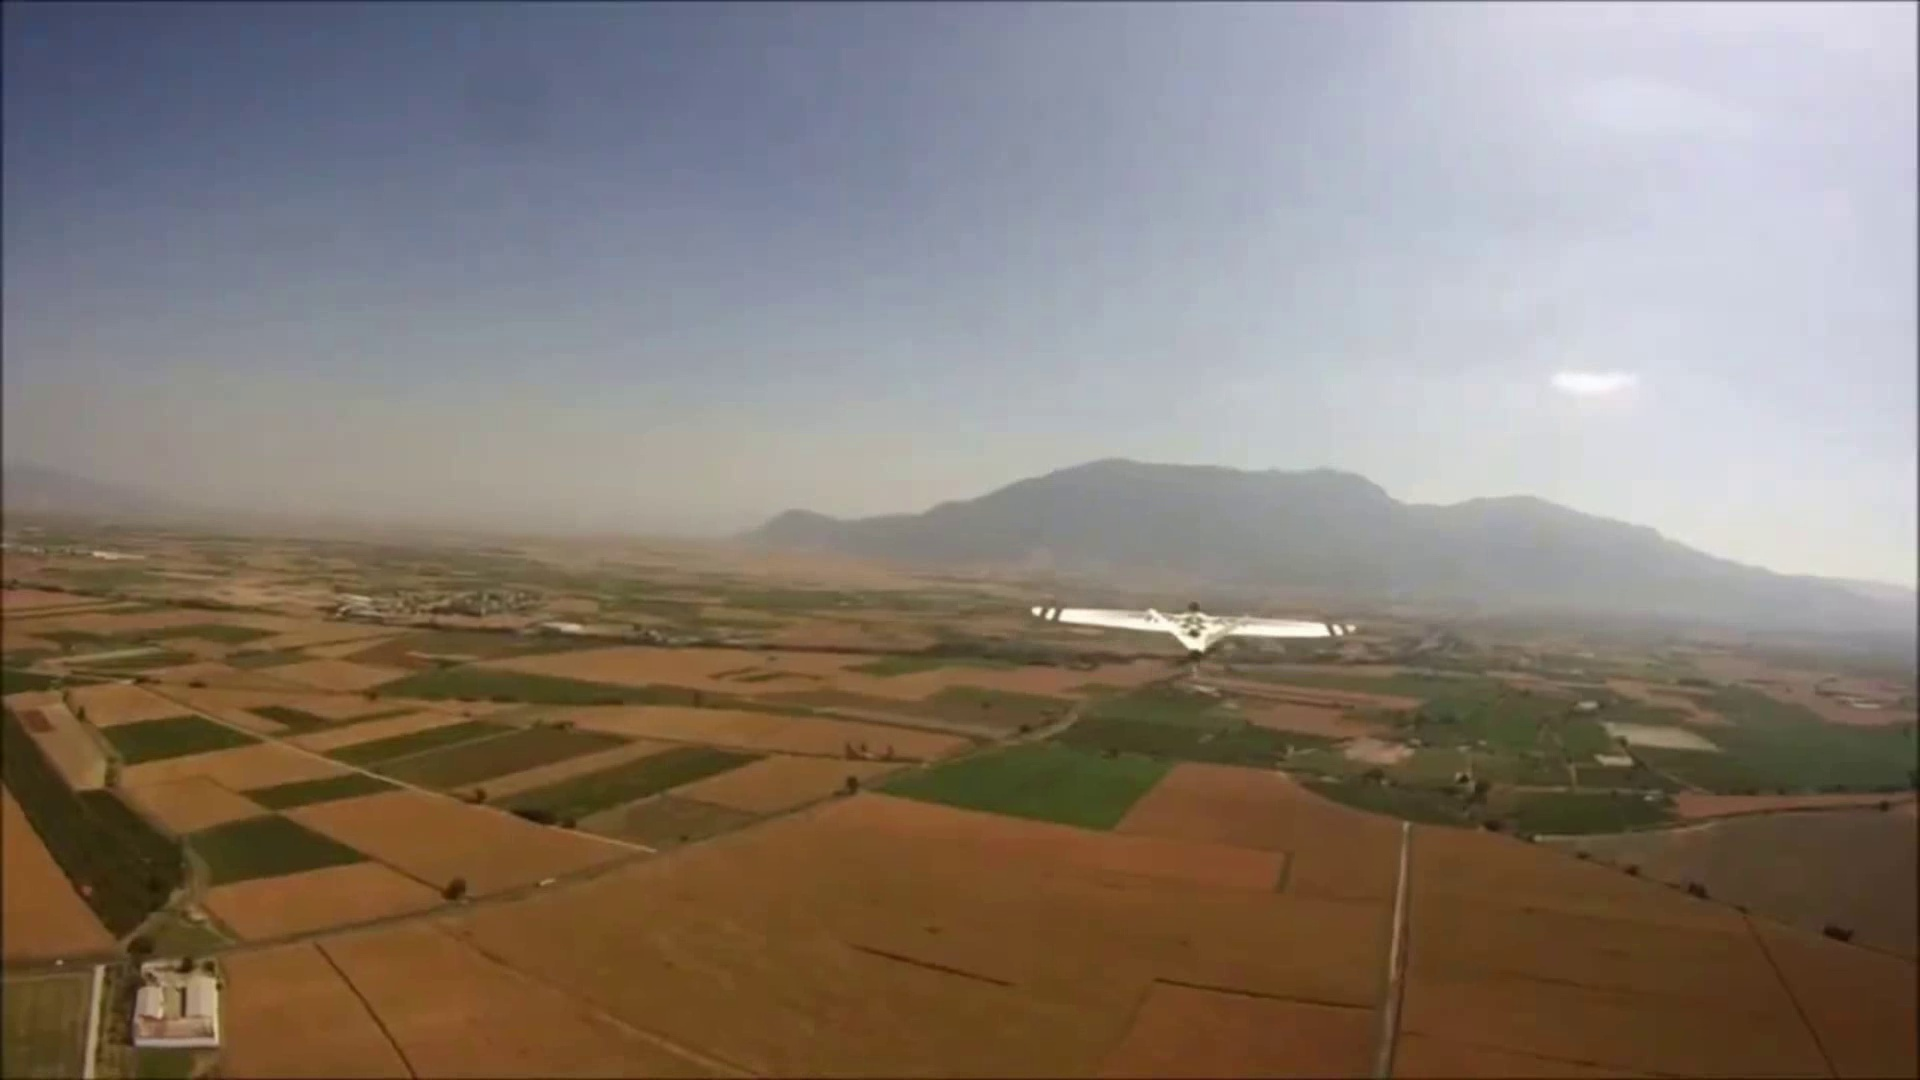airplane: (1027, 597, 1369, 659)
